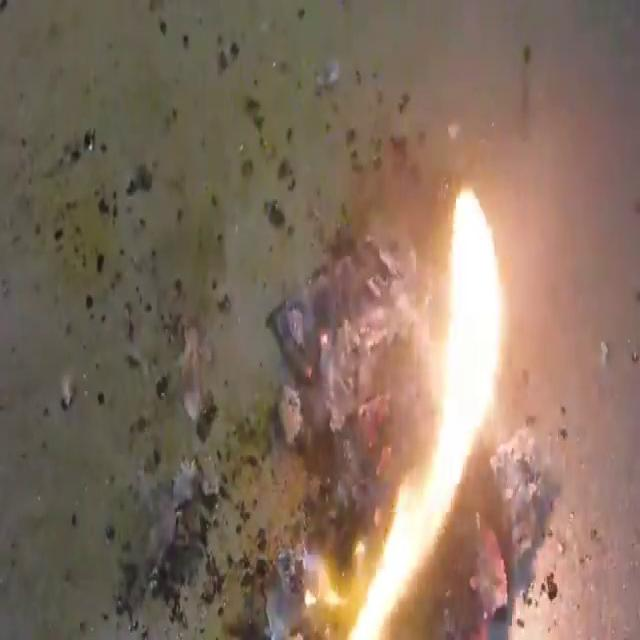Fire: (200, 74, 590, 640)
